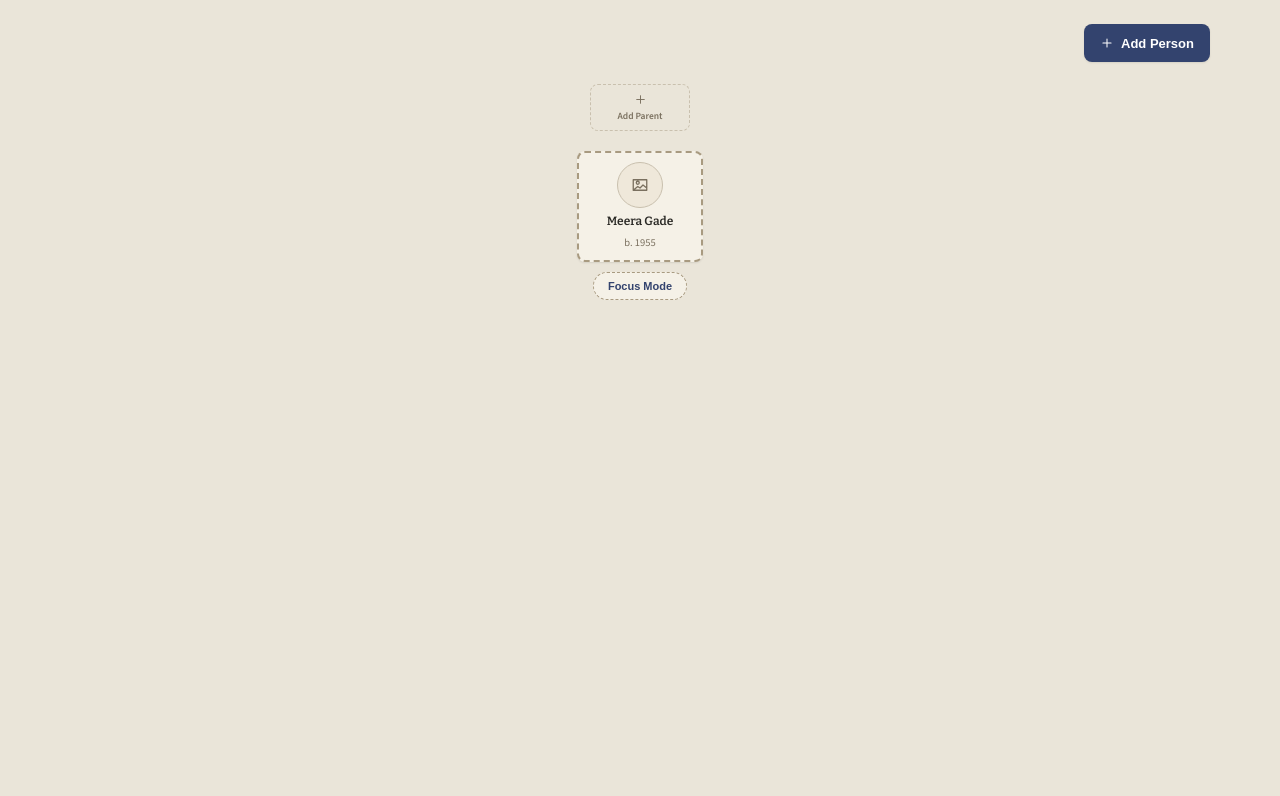
Test: editing a person and saving returns to that person's profile, not a bare tree
Click the text "Meera Gade": (640, 222) [607, 214, 673, 229]
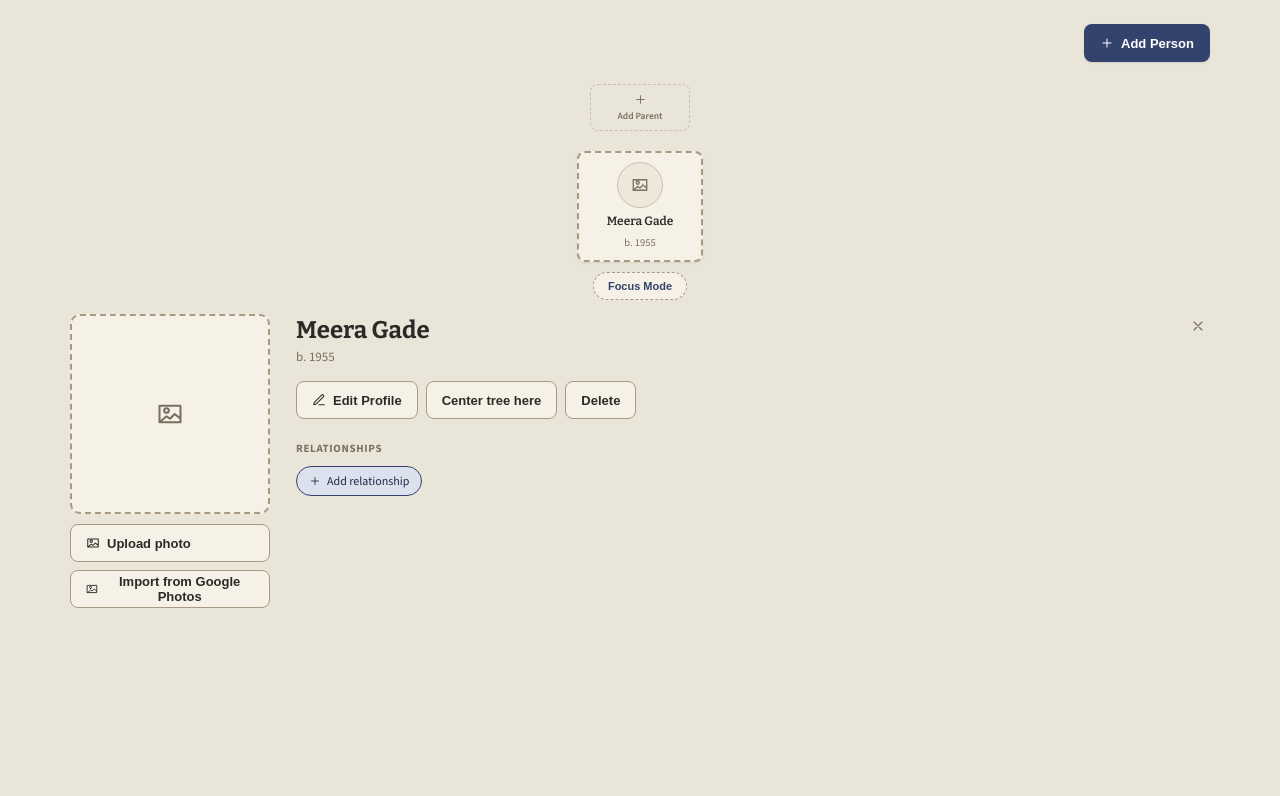
Expected: the button "Edit Profile" is shown
Click the button "Edit Profile": (357, 400) [296, 381, 418, 419]
(page scrolled)
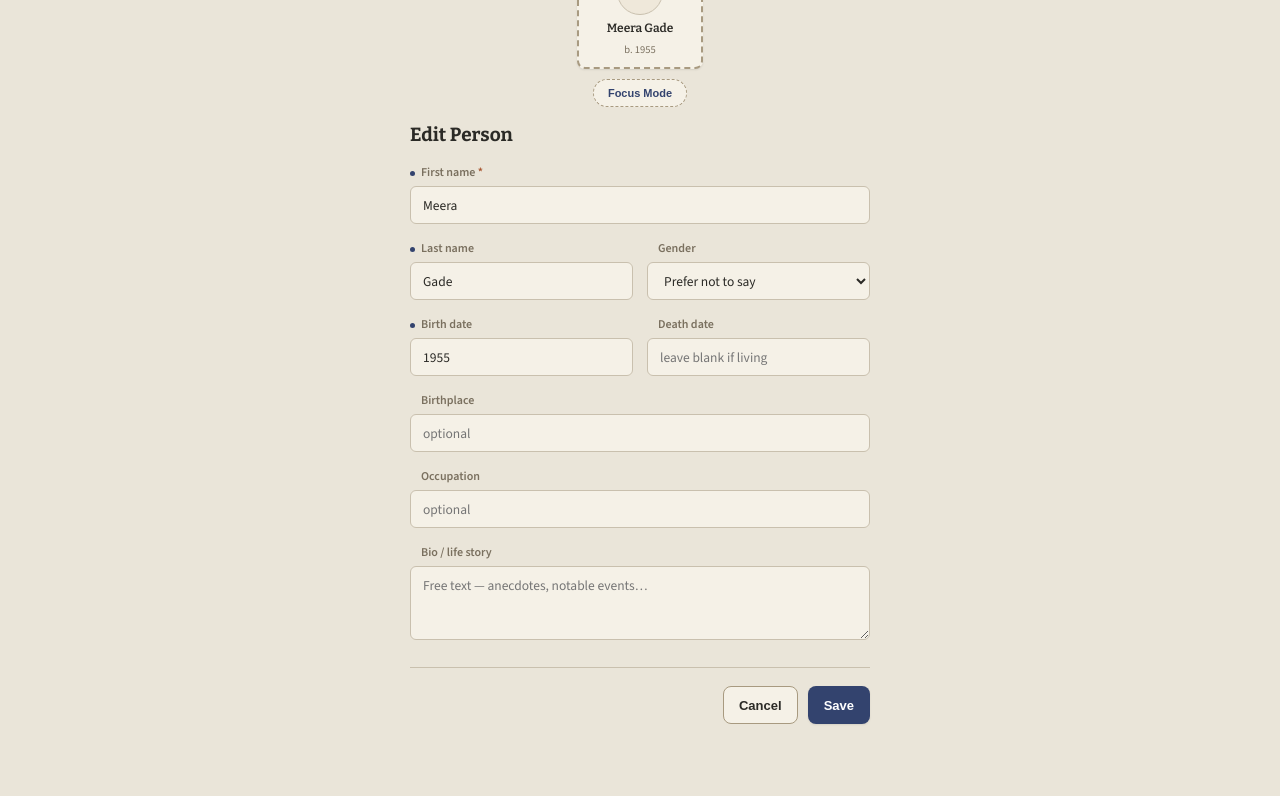
Expected: the text "Edit Person" is shown, [410, 123, 513, 146]
Expected: the field showing "Meera" is shown, [410, 186, 870, 224]
Click the button "Save": (839, 705) [808, 686, 870, 724]
(page scrolled)
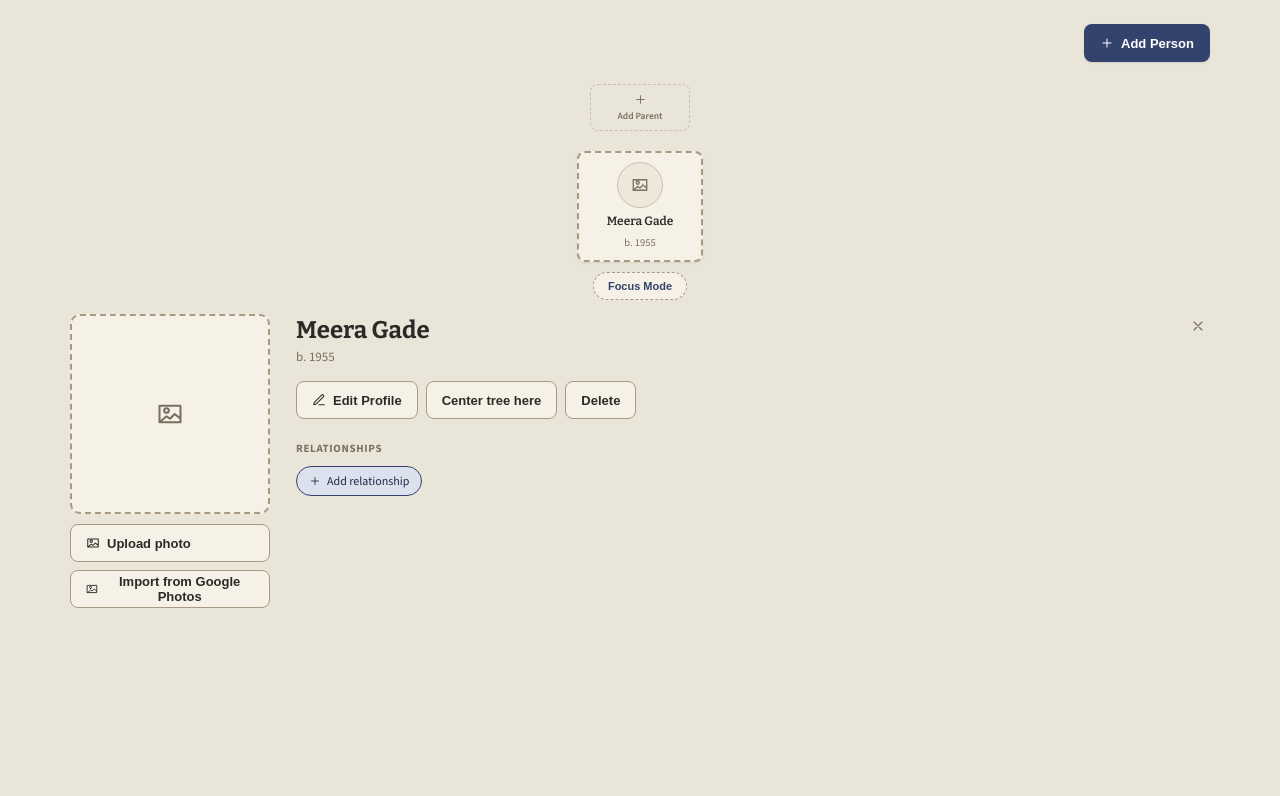
Expected: the button "Edit Profile" is shown, [296, 381, 418, 419]
Expected: the text "Edit Person" is gone
